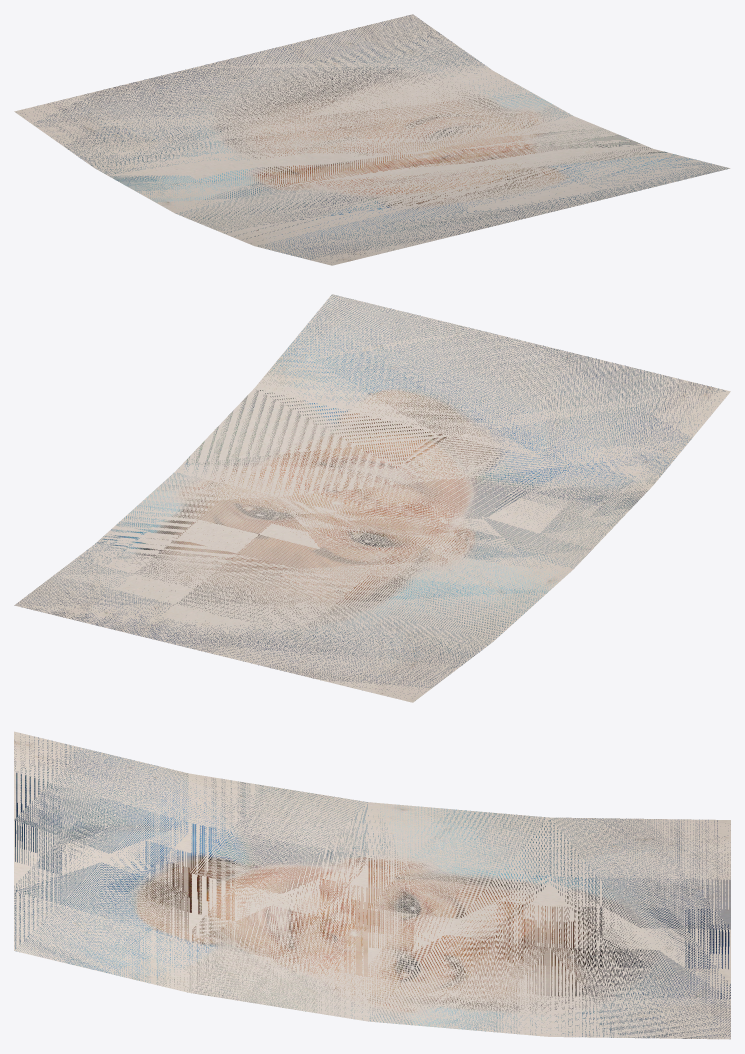
Rendered from photo_tau_crewmember.dae.
The picture shows the model from 3 angles, top to bottom: view 1: azimuth 30°, elevation 25°; view 2: azimuth 150°, elevation 25°; view 3: azimuth 270°, elevation 25°; orthographic projection. The views are drawn at different scales.
Visible parts, largest first — view 1: polySurface7, polySurface8; view 2: polySurface7, polySurface8; view 3: polySurface7, polySurface8.
Part boxes in pixels (x1=…): polySurface7: x1=14, y1=14, x2=730, y2=265; polySurface8: x1=25, y1=15, x2=727, y2=261; polySurface7: x1=14, y1=294, x2=730, y2=702; polySurface8: x1=18, y1=295, x2=725, y2=689; polySurface7: x1=14, y1=731, x2=730, y2=1039; polySurface8: x1=14, y1=736, x2=730, y2=1038.
Size of the model in its own units: 0.1163 by 0.0219 by 0.1606.
